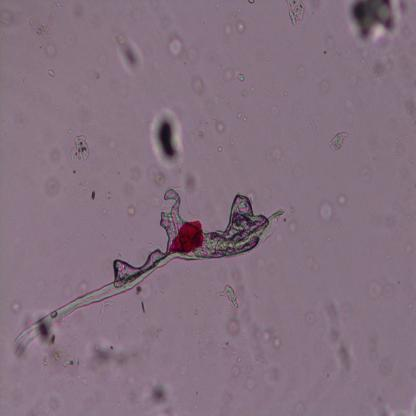Background material: (221, 274, 278, 357), (82, 329, 151, 376), (321, 298, 353, 375), (147, 108, 186, 171), (348, 0, 402, 43), (41, 329, 82, 372), (66, 69, 96, 126), (112, 34, 146, 78), (140, 375, 177, 412), (60, 131, 92, 169), (109, 160, 141, 198), (33, 16, 61, 57), (63, 0, 101, 28), (25, 389, 63, 416), (226, 357, 254, 393), (363, 388, 395, 416), (319, 194, 349, 222), (338, 90, 358, 127), (370, 52, 392, 84), (285, 0, 307, 28), (368, 278, 394, 301), (258, 362, 282, 386), (318, 26, 336, 56), (0, 0, 21, 25), (306, 113, 321, 148), (176, 356, 202, 376), (10, 101, 29, 128), (392, 135, 410, 162), (223, 66, 245, 87), (166, 36, 185, 59), (204, 95, 222, 119), (303, 249, 321, 271), (404, 93, 416, 124), (375, 356, 393, 376), (332, 130, 348, 151), (184, 173, 200, 194), (45, 175, 60, 197), (151, 165, 167, 185), (191, 76, 205, 97), (193, 322, 205, 346), (289, 63, 307, 79), (292, 398, 310, 414), (404, 234, 415, 258), (300, 310, 316, 326), (135, 284, 151, 300), (221, 20, 234, 38), (186, 46, 202, 60), (275, 152, 290, 166), (108, 134, 118, 154), (320, 77, 331, 94), (236, 19, 247, 36), (307, 0, 320, 14), (241, 86, 254, 100), (125, 201, 137, 216), (215, 119, 225, 136), (288, 221, 300, 235), (10, 300, 22, 312), (293, 165, 304, 178), (267, 104, 278, 117), (237, 110, 247, 124), (150, 327, 160, 341), (194, 126, 205, 138), (46, 67, 58, 78), (90, 188, 97, 202), (140, 300, 146, 314), (279, 89, 288, 97), (160, 286, 166, 296), (325, 234, 331, 244), (248, 1, 258, 5), (217, 146, 222, 152), (230, 140, 235, 146), (266, 56, 270, 62), (197, 310, 199, 316)
Cellulose filter fibre: (10, 179, 281, 358)
